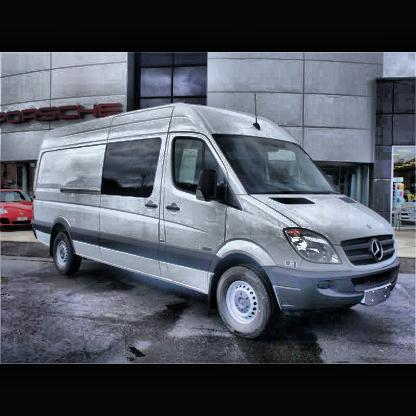Mercedes-Benz Sprinter Van 2012: (33, 95, 401, 339)
